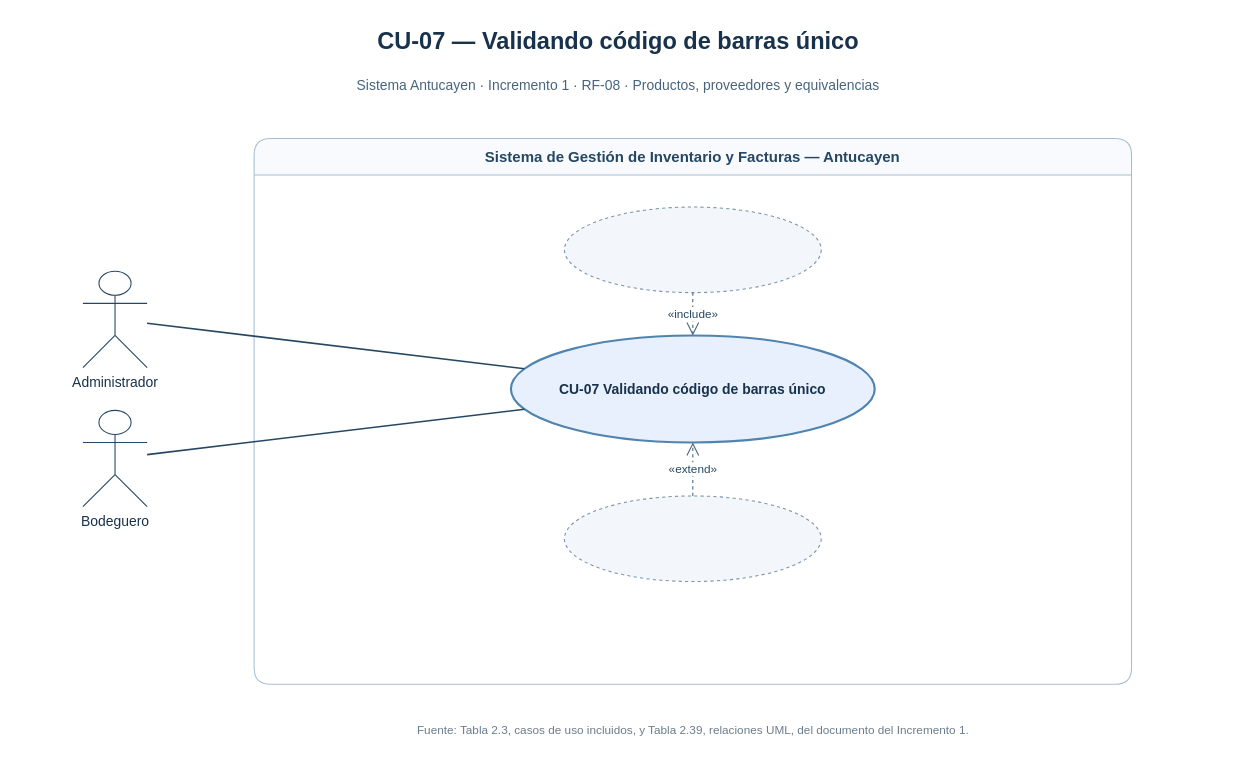
Image size: 1235x762. Some labels were removed from this diagram. Here are the shapes that lost their labels. From the top down, the centre of each, then its label:
(692,249): CU-01 Registrando producto
(692,538): CU-08 Controlando alerta de código de barras duplicado
